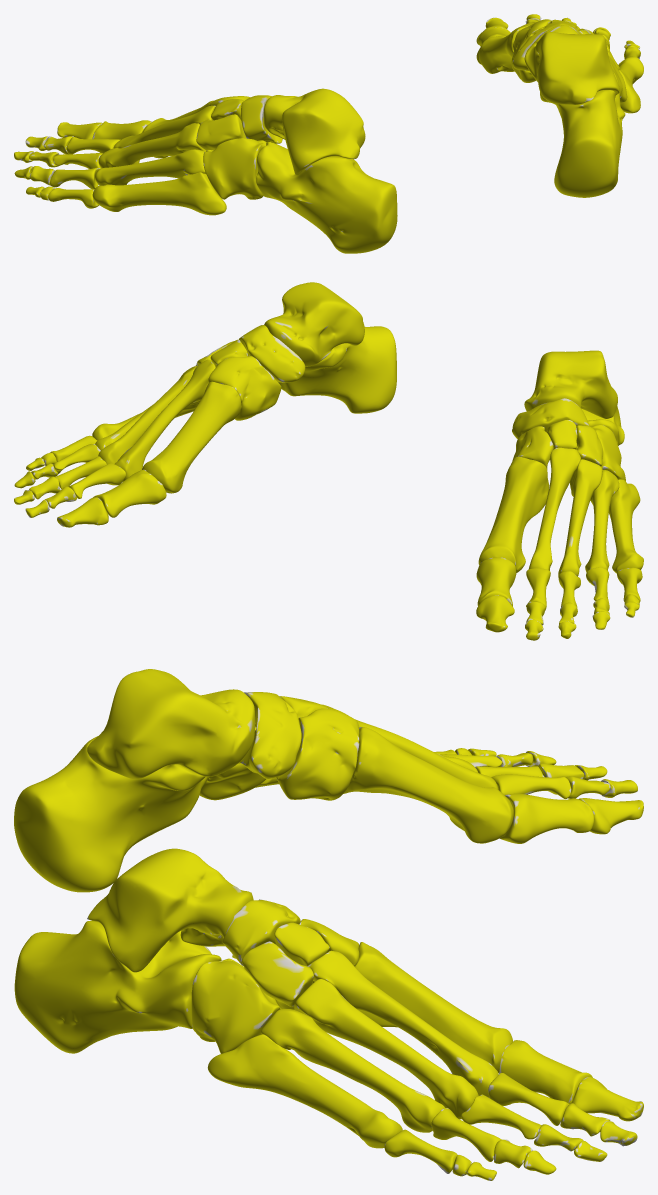
The model's file is 13_foot.glb.
3 views of the same model, one above another, from view 1: azimuth 30°, elevation 25°; view 2: azimuth 150°, elevation 25°; view 3: azimuth 270°, elevation 25° (orthographic). The views are drawn at different scales.
Parts seen in each view (by area): view 1: calcaneus_L, calcaneus_R, talus_L, talus_R, metatarsal_L5, cuboid_L, metatarsal_L4, metatarsal_L3, metatarsal_R1, cuneiform_lateral_L, navicular_L, metatarsal_L2 (+11 smaller); view 2: calcaneus_R, talus_R, talus_L, metatarsal_L1, metatarsal_R1, cuneiform_medial_R, metatarsal_R2, metatarsal_L2, metatarsal_L3, navicular_R, metatarsal_L5, phalanx_foot_R1_proximal (+18 smaller); view 3: calcaneus_R, calcaneus_L, talus_L, talus_R, metatarsal_L1, metatarsal_R5, metatarsal_R3, metatarsal_R4, metatarsal_R1, cuboid_R, metatarsal_R2, cuneiform_medial_L (+18 smaller).
Boxes of the visible parts, x1,y1,x2,y2 form: calcaneus_L: (256, 142, 397, 253); calcaneus_R: (540, 72, 625, 197); talus_L: (263, 88, 365, 175); talus_R: (524, 25, 619, 104); metatarsal_L5: (92, 172, 226, 215); cuboid_L: (203, 138, 266, 199); metatarsal_L4: (95, 149, 205, 185); metatarsal_L3: (98, 123, 213, 168); metatarsal_R1: (479, 22, 534, 73); cuneiform_lateral_L: (196, 114, 246, 150); navicular_L: (241, 95, 282, 143); metatarsal_L2: (113, 105, 215, 164); calcaneus_R: (278, 326, 396, 413); talus_R: (264, 282, 364, 366); talus_L: (524, 350, 617, 418); metatarsal_L1: (478, 456, 549, 572); metatarsal_R1: (142, 381, 241, 493); cuneiform_medial_R: (208, 355, 281, 420); metatarsal_R2: (114, 359, 215, 481); metatarsal_L2: (528, 447, 580, 570); metatarsal_L3: (558, 459, 602, 577); navicular_R: (239, 325, 305, 382); metatarsal_L5: (608, 479, 643, 573); phalanx_foot_R1_proximal: (93, 469, 166, 517); calcaneus_R: (14, 921, 221, 1053); calcaneus_L: (14, 736, 207, 892); talus_L: (87, 669, 255, 779); talus_R: (87, 848, 253, 972); metatarsal_L1: (343, 727, 513, 843); metatarsal_R5: (207, 1034, 402, 1148); metatarsal_R3: (294, 979, 478, 1119); metatarsal_R4: (261, 1009, 444, 1132); metatarsal_R1: (355, 942, 512, 1072); cuboid_R: (191, 958, 281, 1053); metatarsal_R2: (307, 950, 498, 1097); cuneiform_medial_L: (276, 708, 359, 800).
Size of the model in its own units: 0.3383 by 0.0732 by 0.2116.
